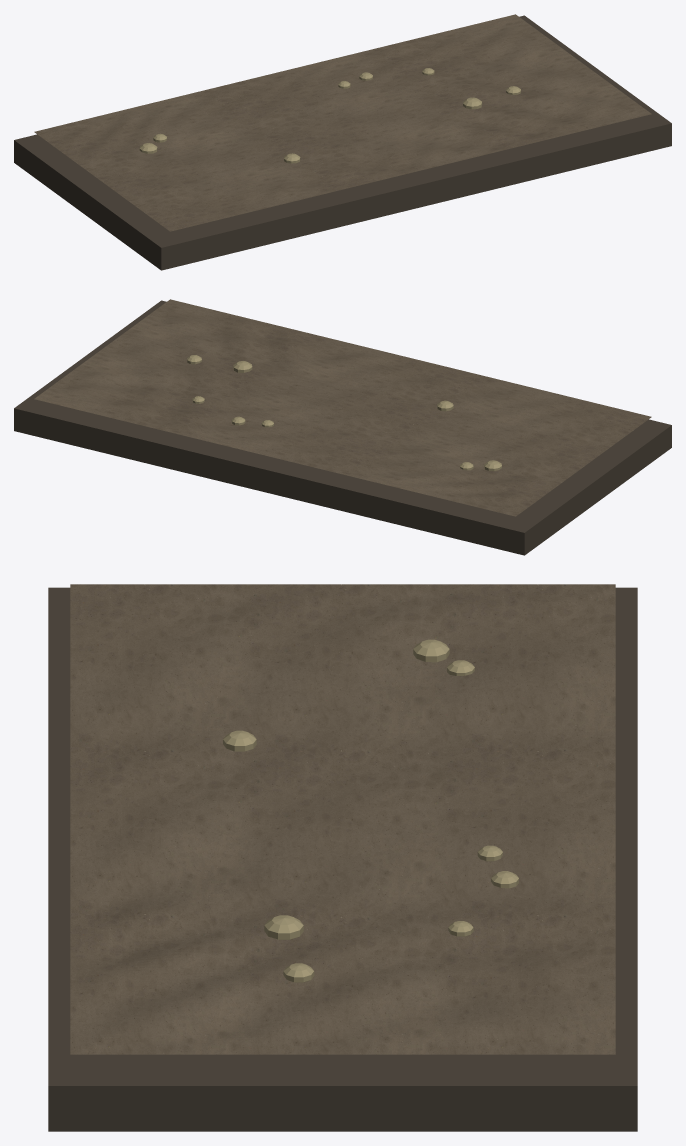
Rendered from floor.glb.
3 renders of one model, top to bottom at view 1: azimuth 30°, elevation 25°; view 2: azimuth 150°, elevation 25°; view 3: azimuth 270°, elevation 25°, orthographic. The views are drawn at different scales.
Visible parts, largest first — view 1: SandTop, Floor_Base, Floor_Gravel; view 2: SandTop, Floor_Base, Floor_Gravel; view 3: SandTop, Floor_Base, Floor_Gravel.
Boxes of the visible parts, x1,y1,x2,y2 form: SandTop: (34,14,651,231); Floor_Base: (14,15,671,270); Floor_Gravel: (139,68,520,163); SandTop: (34,299,651,516); Floor_Base: (14,300,671,555); Floor_Gravel: (187,355,501,470); SandTop: (70,584,615,1054); Floor_Base: (48,587,637,1131); Floor_Gravel: (223,639,518,982).
Size of the model in its own units: 8 by 0.5711 by 4.
Materials: 3 (1 with a texture image).
